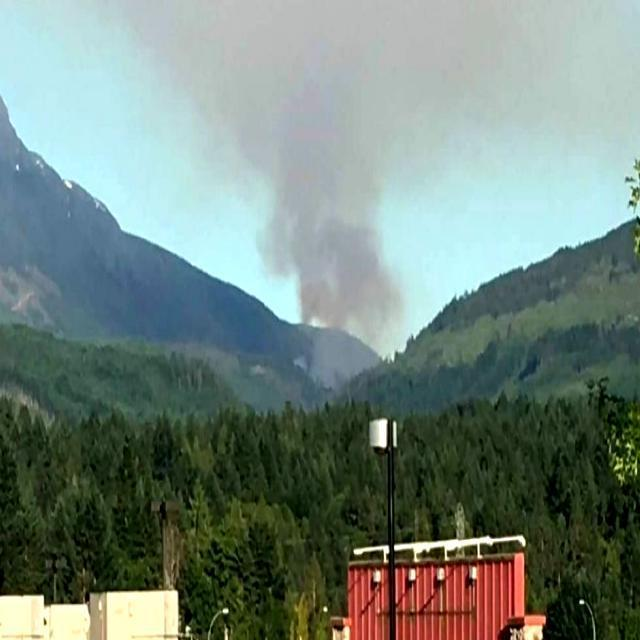Smoke: (178, 0, 528, 326)
